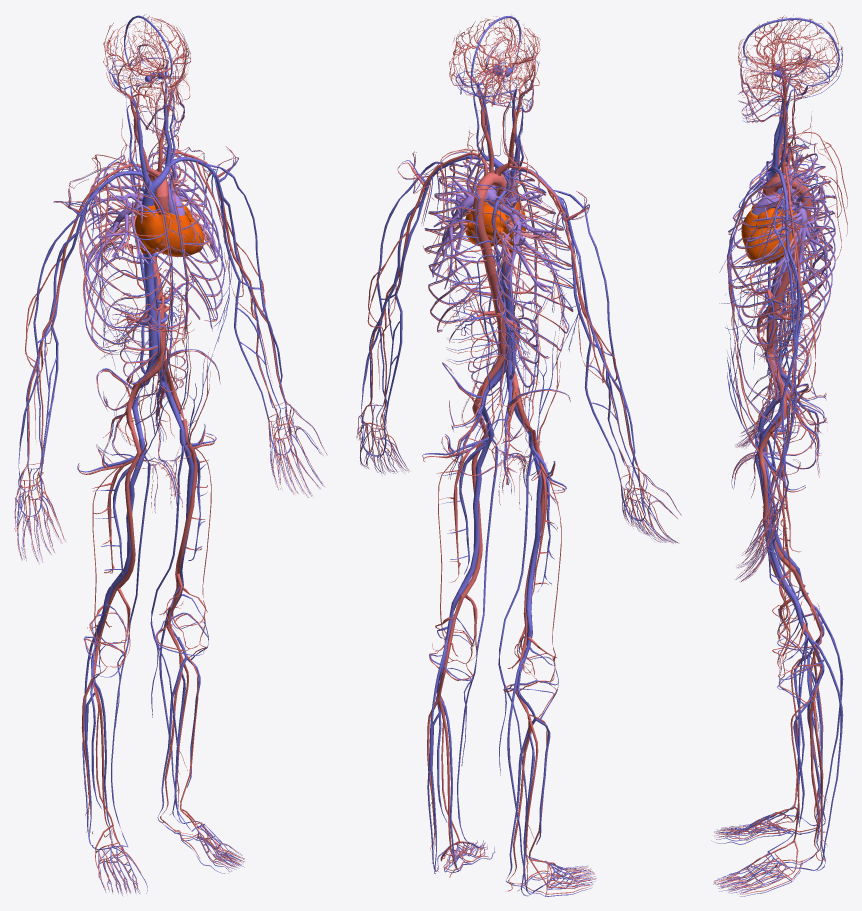
The model's file is cardiovascular-system.glb.
The picture shows the model from 3 angles, left to right: view 1: azimuth 30°, elevation 25°; view 2: azimuth 150°, elevation 25°; view 3: azimuth 270°, elevation 25°; orthographic projection. The views are drawn at different scales.
Visible parts, largest first — view 1: object 1, Great saphenous vein.l, Great saphenous vein.r, Femoral artery.r, Cephalic vein.r, Femoral artery.l, Femoral vein.r, Cephalic vein.l; view 2: object 1, Great saphenous vein.l, Great saphenous vein.r, Femoral vein.l, Femoral vein.r, Cephalic vein.r, Basilic vein.r, Femoral artery.l, Cephalic vein.l, Basilic vein.l, Small saphenous vein.r; view 3: object 1, Cephalic vein.l, Small saphenous vein.l, Femoral artery.l, Great saphenous vein.r, Small saphenous vein.r, Great saphenous vein.l, Femoral vein.l, Basilic vein.l, Posterior tibial artery.l, Fibular artery.l, Anterior tibial veins.l (+12 smaller).
Boxes of the visible parts, x1,y1,x2,y2 form: object 1: [79, 15, 225, 512]; Great saphenous vein.l: [150, 446, 190, 829]; Great saphenous vein.r: [111, 455, 150, 846]; Femoral artery.r: [115, 431, 141, 590]; Cephalic vein.r: [18, 188, 100, 488]; Femoral artery.l: [175, 419, 197, 574]; Femoral vein.r: [111, 438, 146, 588]; Cephalic vein.l: [203, 163, 288, 421]; object 1: [424, 16, 573, 509]; Great saphenous vein.l: [457, 438, 498, 844]; Great saphenous vein.r: [498, 450, 539, 860]; Femoral vein.l: [457, 423, 494, 594]; Femoral vein.r: [526, 435, 542, 610]; Cephalic vein.r: [553, 190, 642, 496]; Basilic vein.r: [571, 238, 621, 483]; Femoral artery.l: [460, 417, 488, 597]; Cephalic vein.l: [361, 161, 443, 428]; Basilic vein.l: [383, 202, 423, 425]; Small saphenous vein.r: [507, 658, 542, 894]; object 1: [728, 18, 839, 507]; Cephalic vein.l: [773, 198, 795, 518]; Small saphenous vein.l: [802, 640, 843, 870]; Femoral artery.l: [758, 431, 792, 601]; Great saphenous vein.r: [755, 431, 819, 820]; Small saphenous vein.r: [802, 604, 843, 826]; Great saphenous vein.l: [755, 452, 819, 851]; Femoral vein.l: [758, 434, 796, 600]; Basilic vein.l: [778, 249, 803, 499]; Posterior tibial artery.l: [803, 701, 819, 860]; Fibular artery.l: [812, 700, 827, 860]; Anterior tibial veins.l: [793, 682, 818, 827].
Bounding box in the file's own units: 0.6639 × 1.7 × 0.2484.
